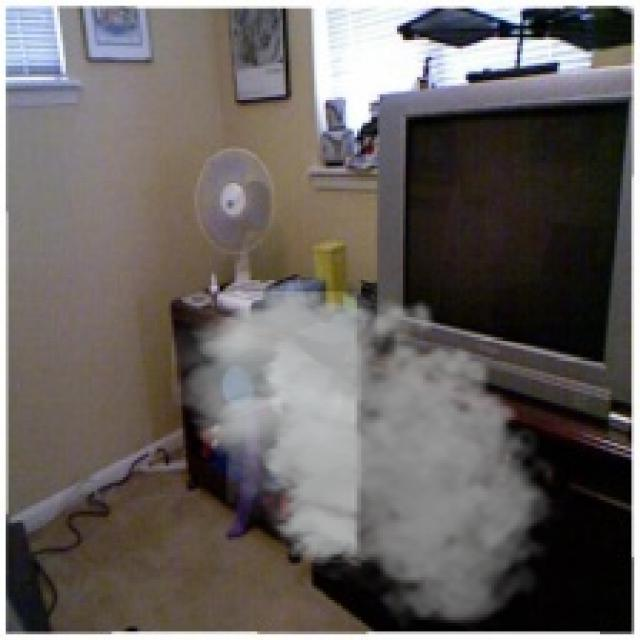smoke: (171, 277, 566, 632)
